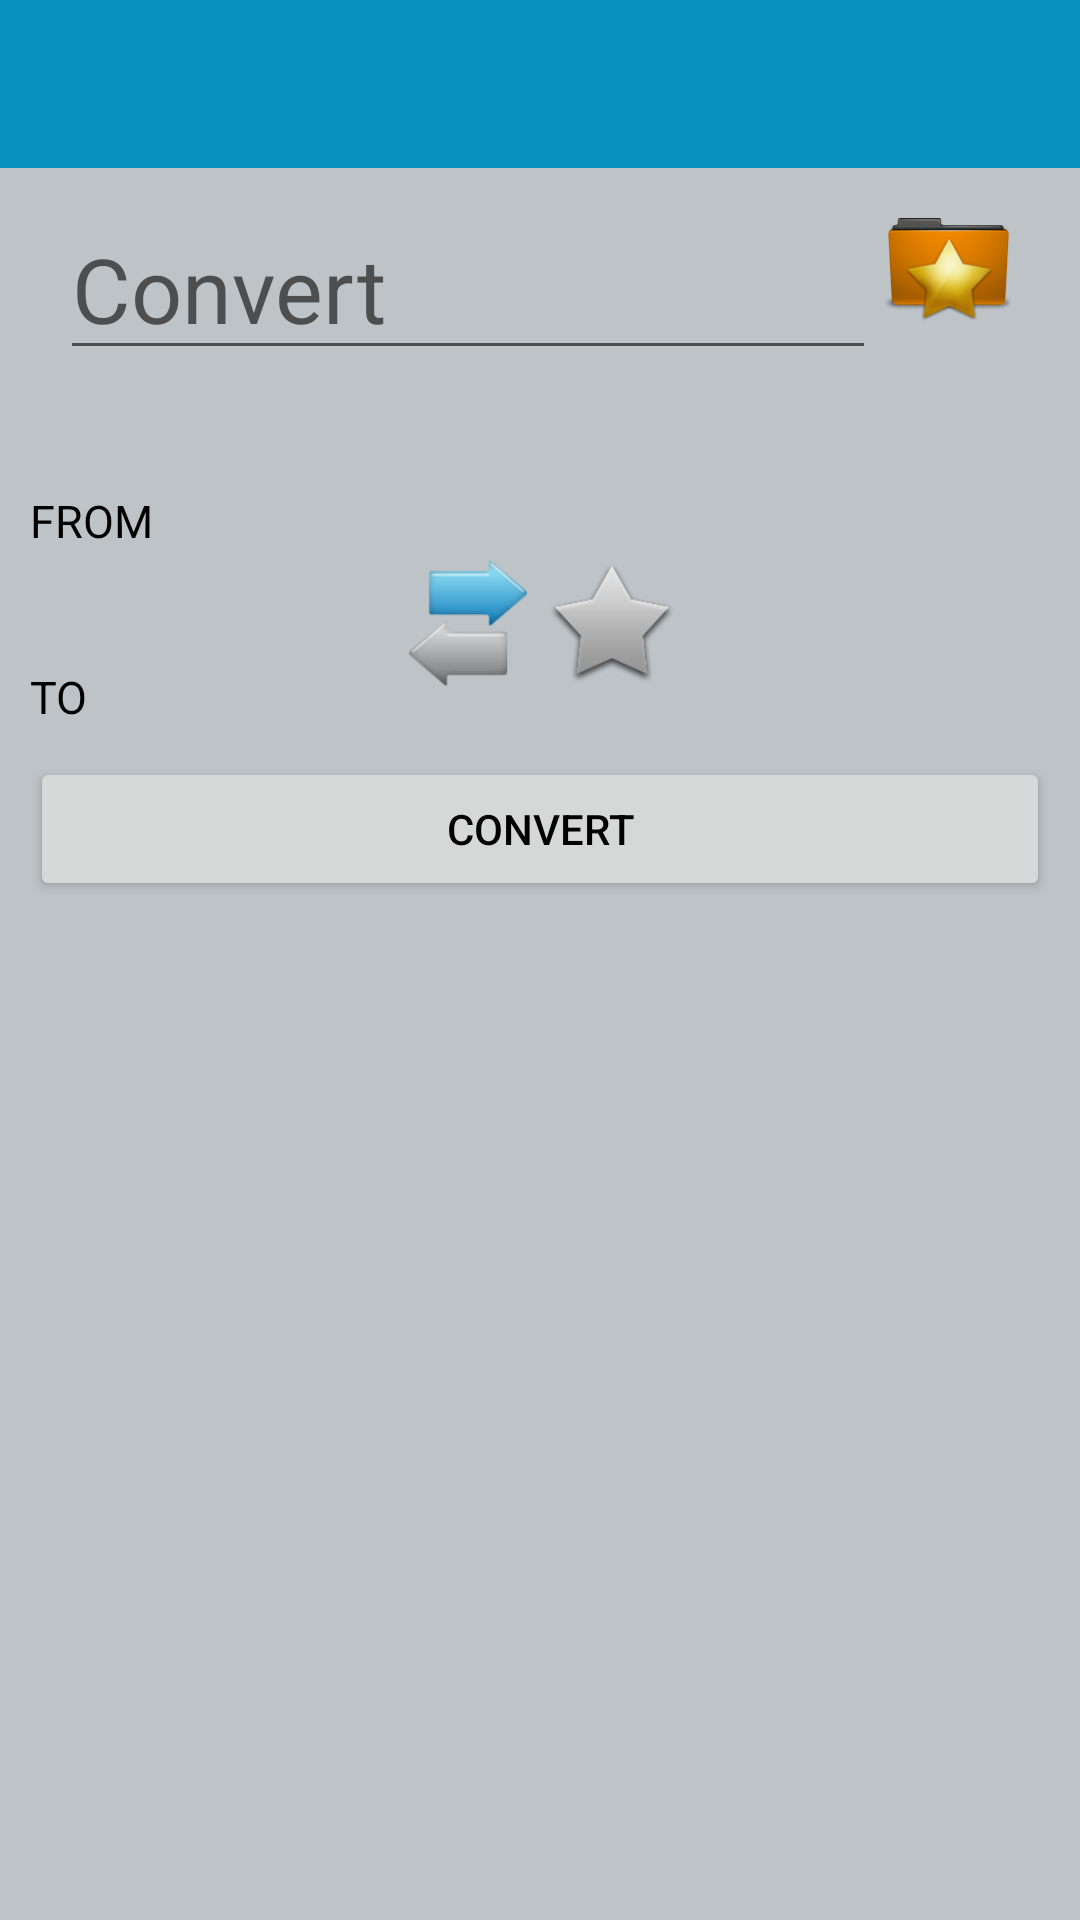

Named icons in this screenshot (1080×1920) and their bounding boxes, (x1, y1, x2, y2):
exchange: (409, 560, 527, 686)
favlist: (888, 218, 1009, 319)
favoff: (554, 567, 670, 679)
